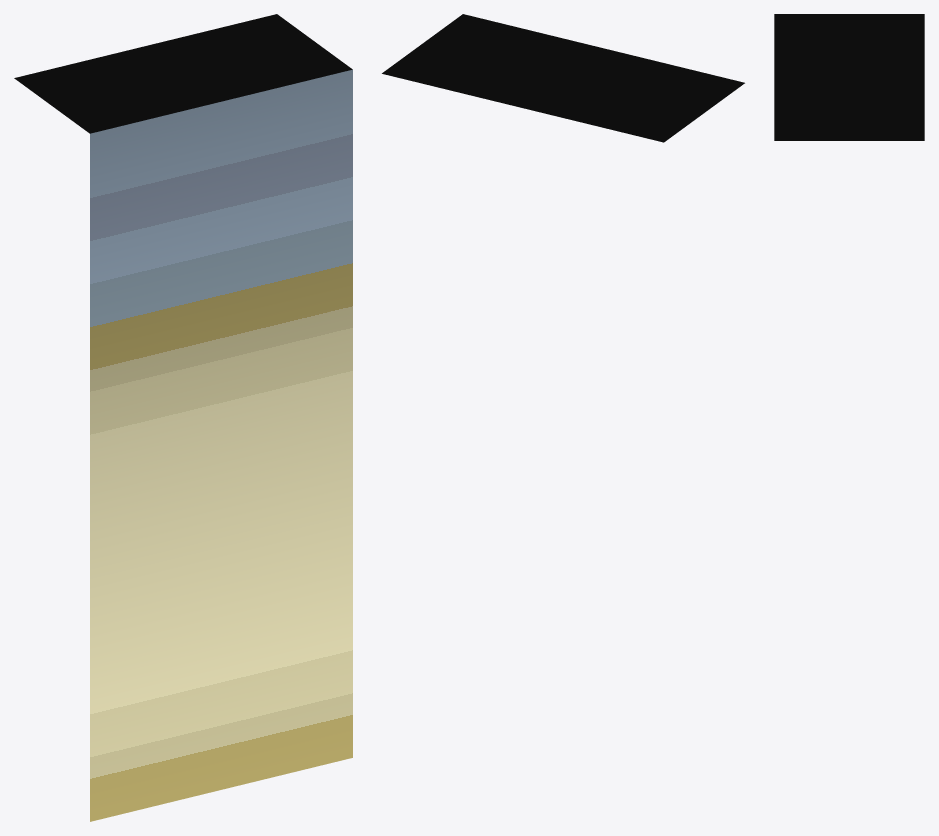
3 renders of one model, left to right at view 1: azimuth 30°, elevation 25°; view 2: azimuth 150°, elevation 25°; view 3: azimuth 270°, elevation 25°, orthographic. The views are drawn at different scales.
Bounding box in the file's own units: 1 × 2.5 × 0.5.
Materials: 1 (1 with a texture image).
